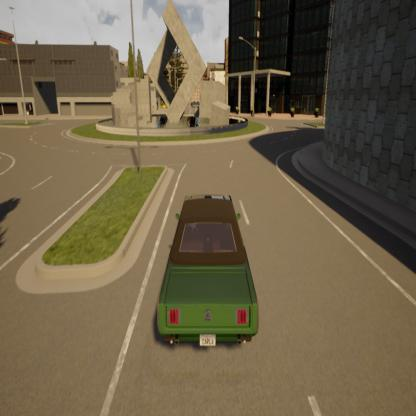Cars: (153, 180, 262, 366)
